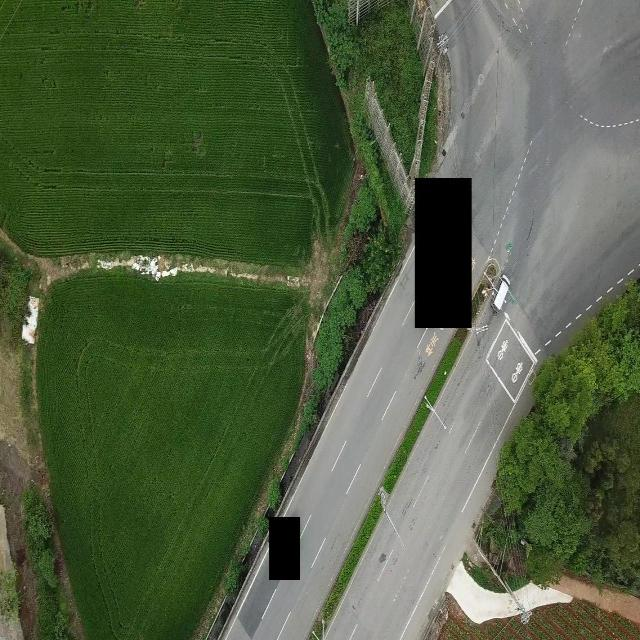car: (492, 273, 510, 312)
